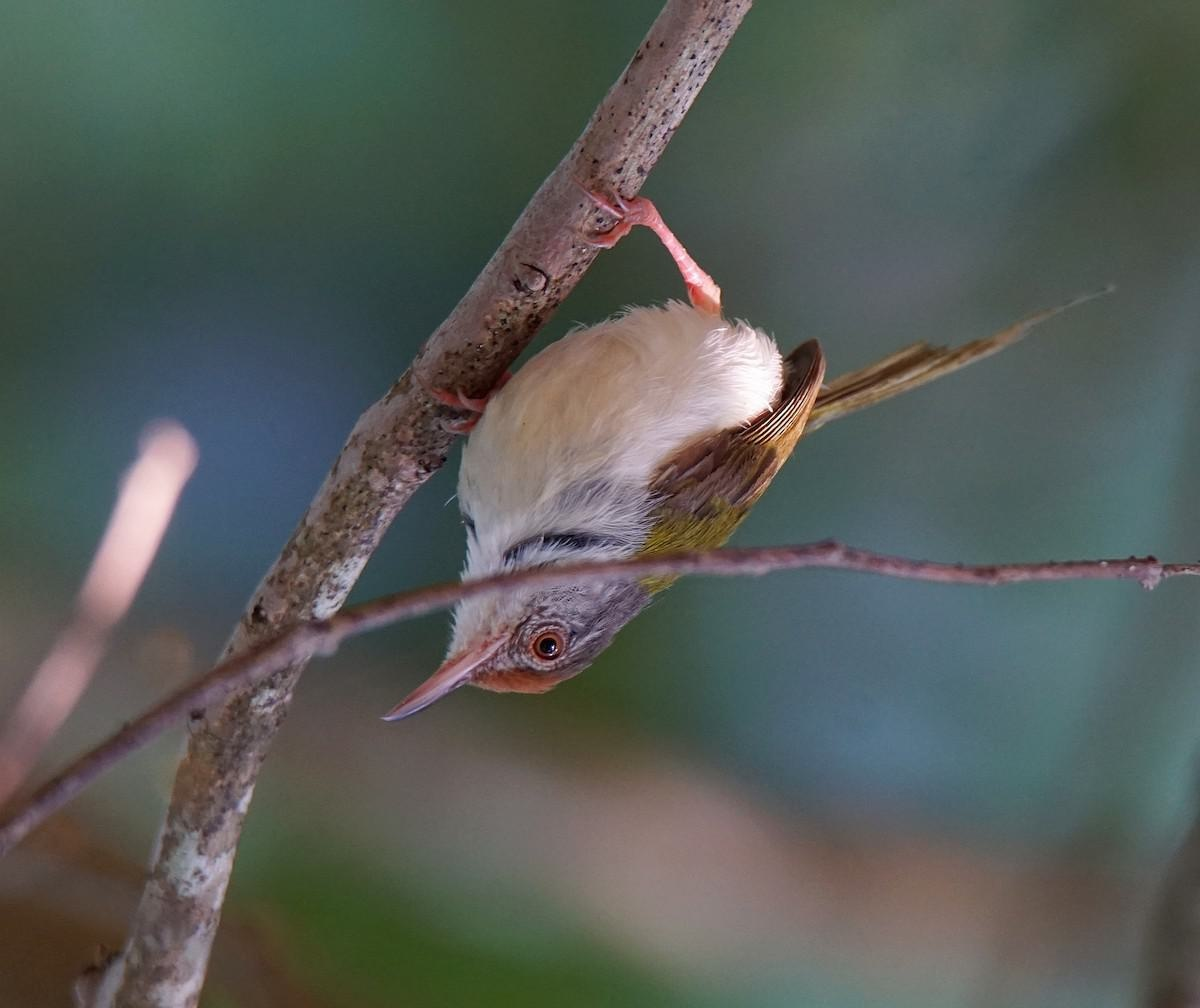tailorbird: (340, 157, 1087, 765)
